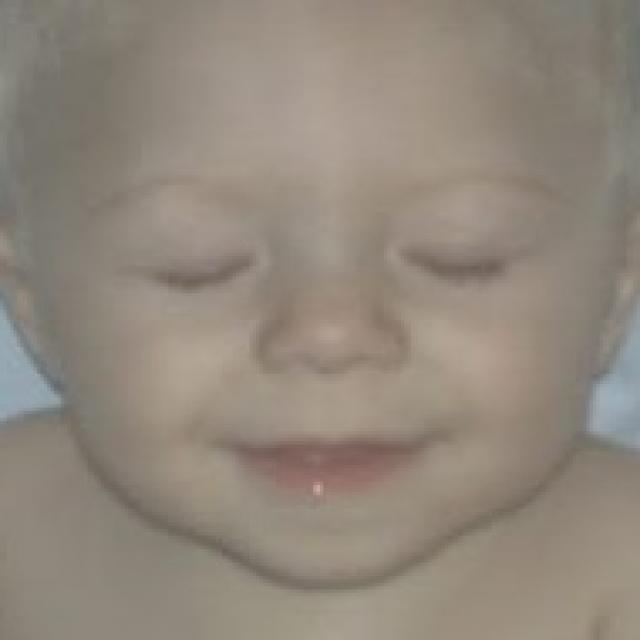close: (111, 186, 283, 314), (387, 174, 527, 313)
